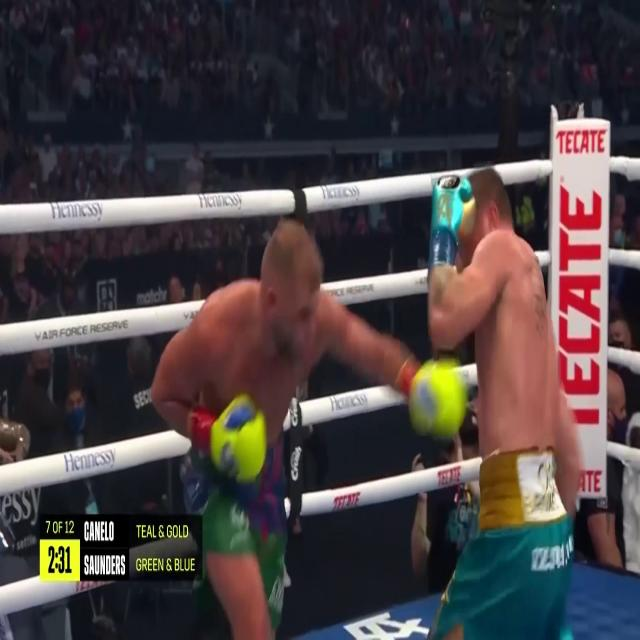boxer_1: (212, 219, 323, 441)
boxer_2: (455, 169, 557, 456)
gloves_1: (189, 393, 266, 484), (398, 359, 467, 436)
gloves_2: (430, 176, 476, 265)
